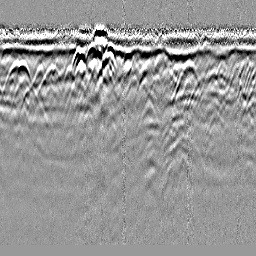cavity: (120, 47, 135, 68)
